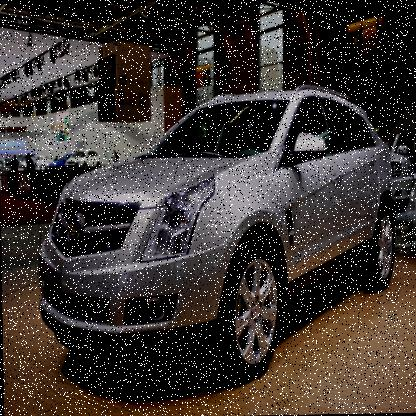Car: (35, 82, 400, 383), (380, 134, 414, 214), (65, 147, 102, 170), (17, 153, 54, 171), (46, 151, 76, 169), (0, 156, 16, 172)
